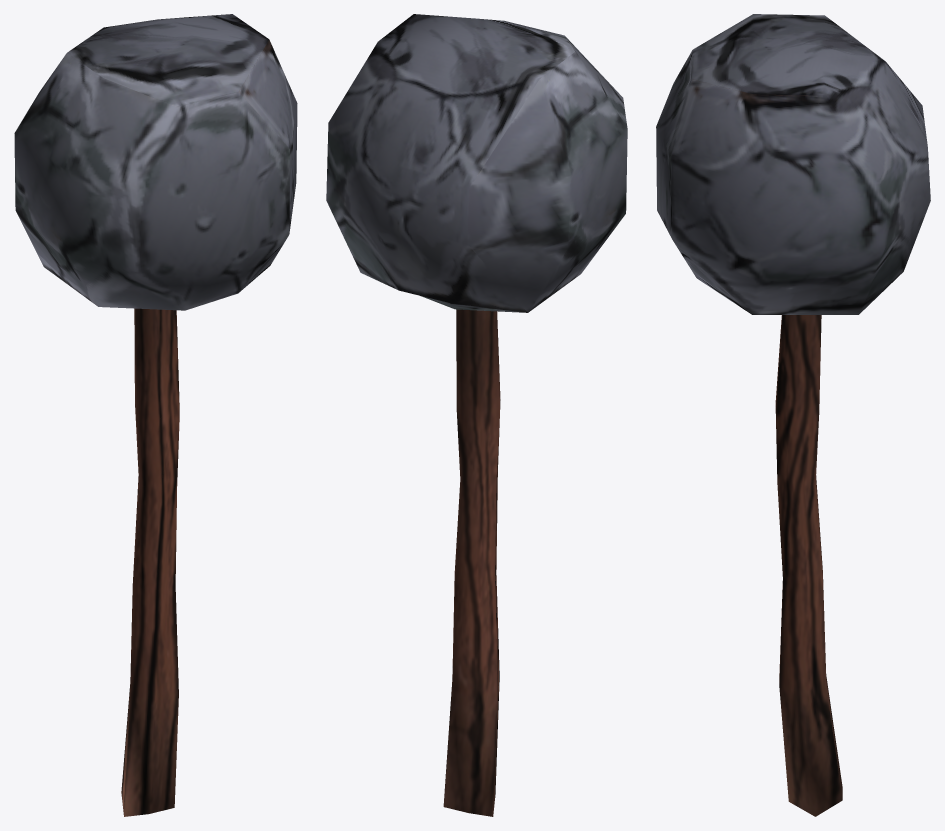
Rendered from WP_1H_Mace01.FBX.
The picture shows the model from 3 angles, left to right: view 1: azimuth 30°, elevation 25°; view 2: azimuth 150°, elevation 25°; view 3: azimuth 270°, elevation 25°; orthographic projection. The views are drawn at different scales.
Parts seen in each view (by area): view 1: WP_1H_Mace01; view 2: WP_1H_Mace01; view 3: WP_1H_Mace01.
Boxes of the visible parts, x1,y1,x2,y2 form: WP_1H_Mace01: [14, 14, 297, 816]; WP_1H_Mace01: [326, 14, 627, 816]; WP_1H_Mace01: [656, 14, 930, 816].
Size of the model in its own units: 25.04 by 78.58 by 25.6.
